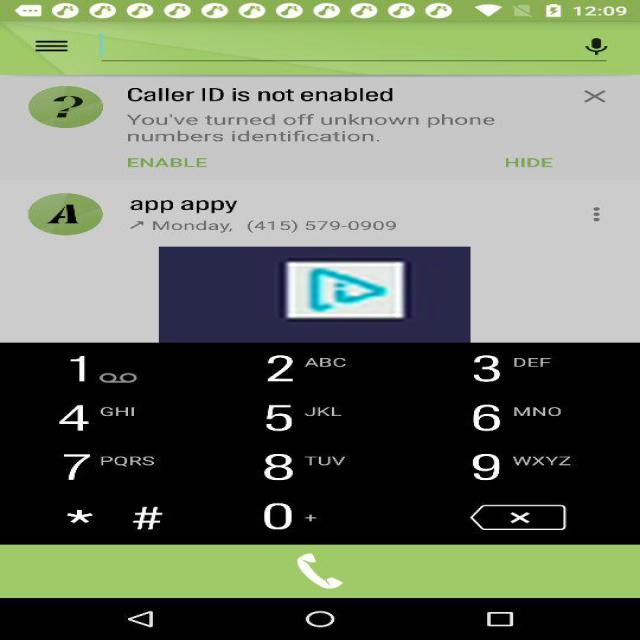sneaking: (159, 246, 470, 342)
